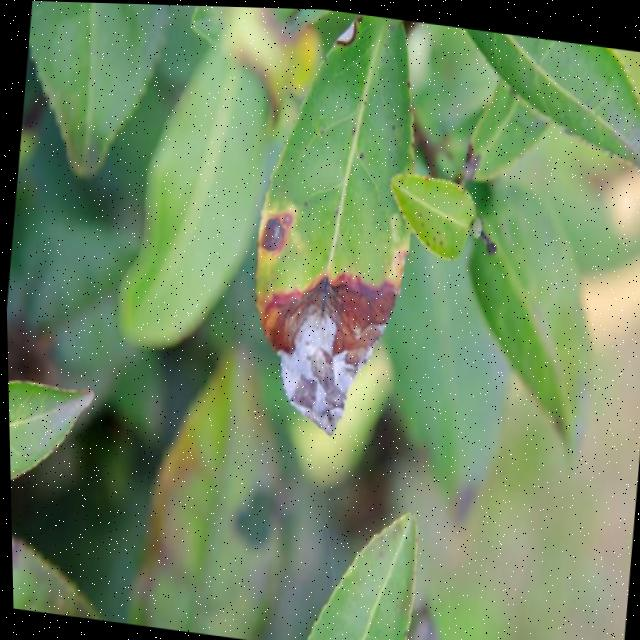Tea cloud leaf blight: (241, 234, 402, 420)
